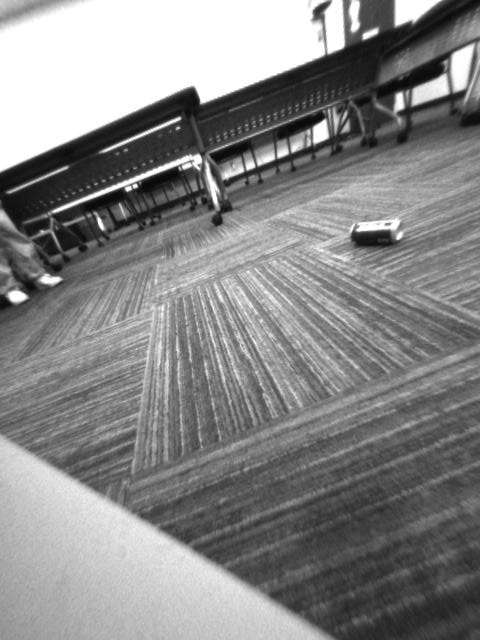can: (347, 215, 405, 249)
